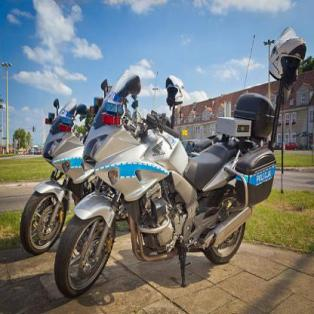Motocicleta: (56, 96, 272, 300), (33, 100, 100, 246)
